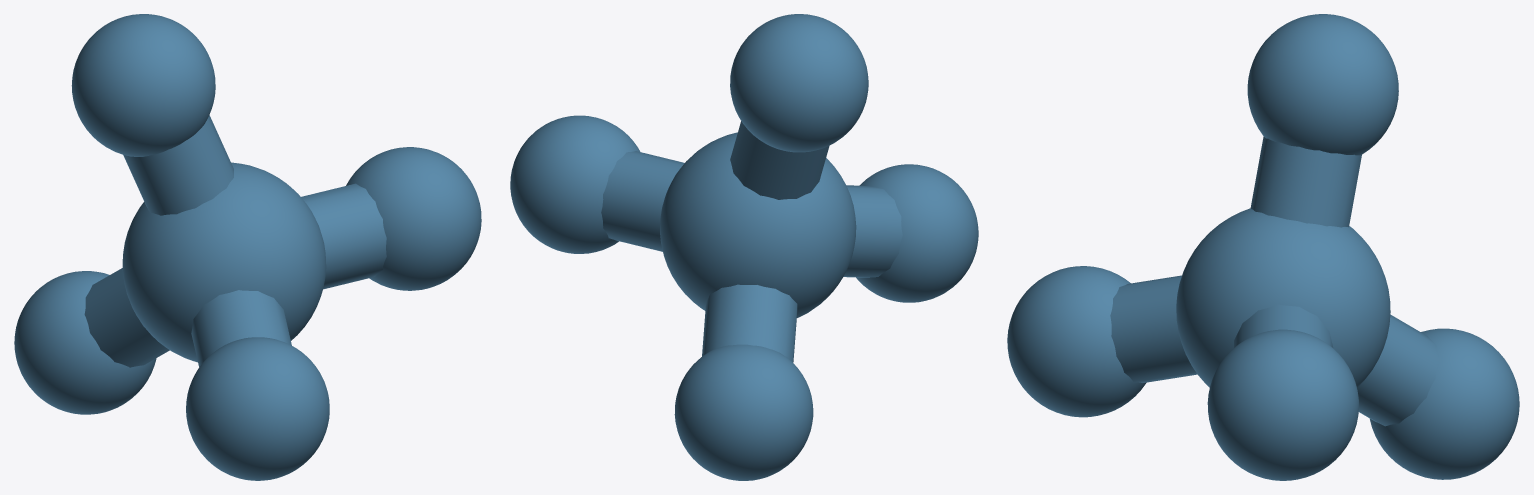
Rendered from Metano-bas-print_NIH3D.glb.
The picture shows the model from 3 angles, left to right: view 1: azimuth 30°, elevation 25°; view 2: azimuth 150°, elevation 25°; view 3: azimuth 270°, elevation 25°; orthographic projection. The views are drawn at different scales.
Visible parts, largest first — view 1: atoms, bonds; view 2: atoms, bonds; view 3: atoms, bonds.
Part boxes in pixels (x1=…): atoms: x1=14, y1=14, x2=481, y2=480; bonds: x1=84, y1=115, x2=386, y2=367; atoms: x1=510, y1=14, x2=978, y2=480; bonds: x1=601, y1=121, x2=902, y2=362; atoms: x1=1007, y1=14, x2=1519, y2=480; bonds: x1=1110, y1=136, x2=1439, y2=426.
Bounding box in the file's own units: 2.15 × 2.37 × 2.44.
